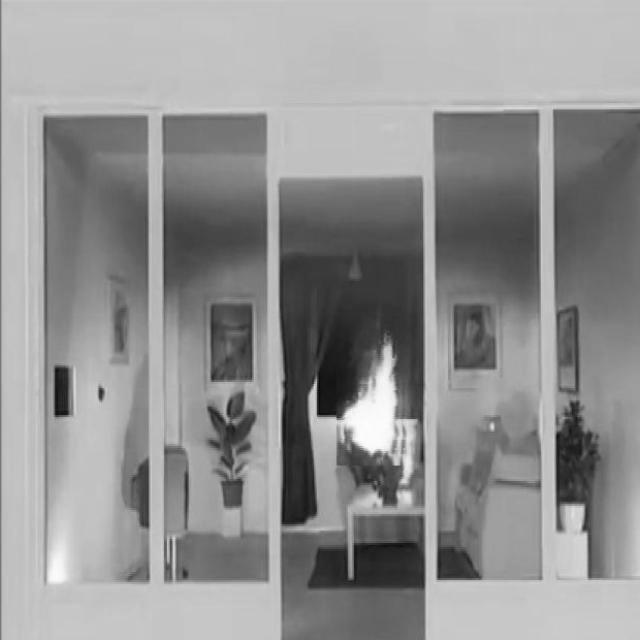smoke: (337, 333, 398, 458)
